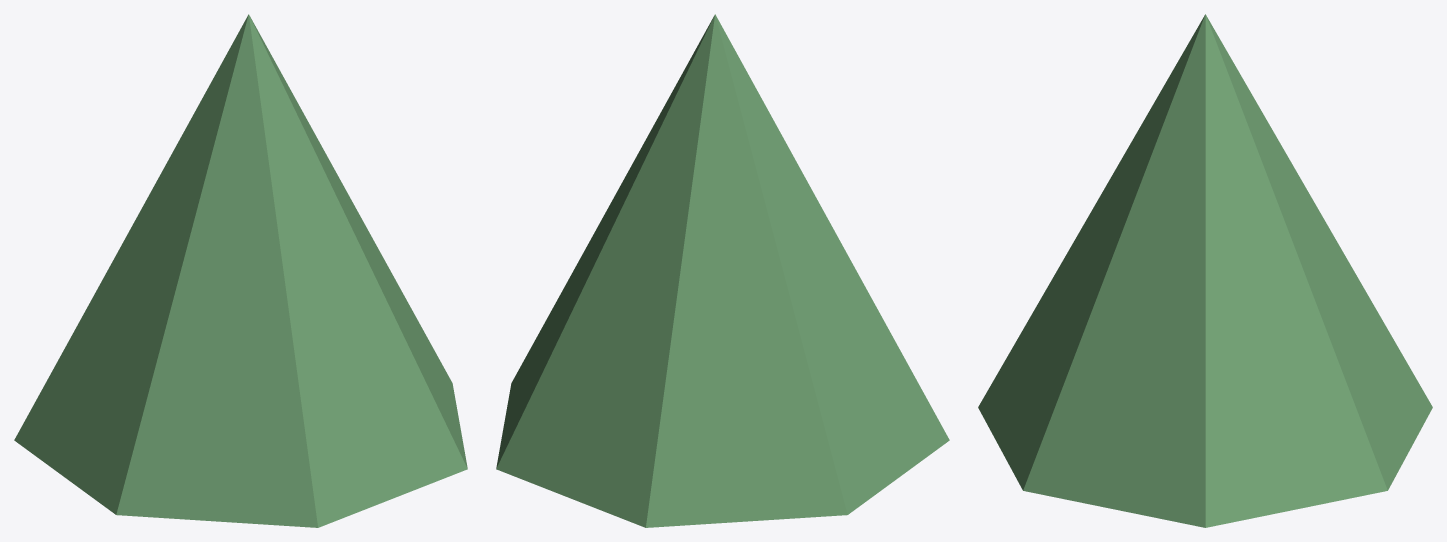
The model's file is cone_grass.gltf.
3 views of the same model, side by side, from view 1: azimuth 30°, elevation 25°; view 2: azimuth 150°, elevation 25°; view 3: azimuth 270°, elevation 25° (orthographic).
Visible parts, largest first — view 1: mesh; view 2: mesh; view 3: mesh.
Part boxes in pixels (<box>): mesh: <box>14,14,467,527</box>; mesh: <box>496,14,949,527</box>; mesh: <box>978,14,1432,527</box>.
Size of the model in its own units: 0.5323 by 0.55 by 0.546.
